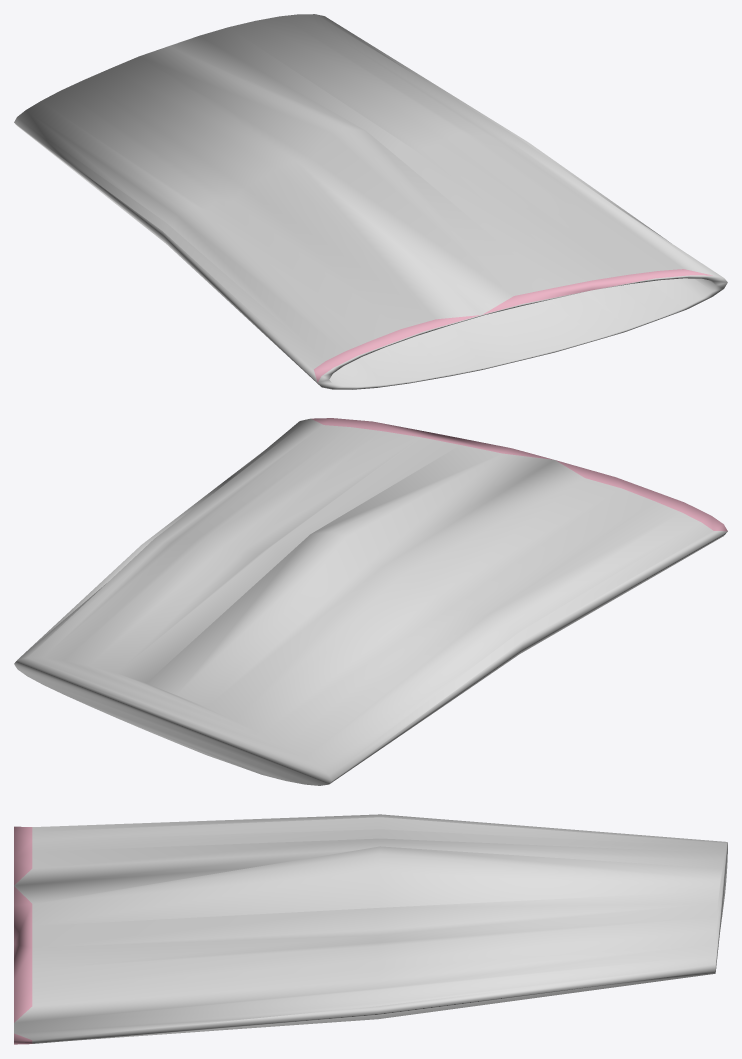
File: casa zgazena1.fbx
3 renders of one model, top to bottom at view 1: azimuth 30°, elevation 25°; view 2: azimuth 150°, elevation 25°; view 3: azimuth 270°, elevation 25°, orthographic. The views are drawn at different scales.
Visible parts, largest first — view 1: cup zguzvan1.001; view 2: cup zguzvan1.001; view 3: cup zguzvan1.001.
Boxes of the visible parts, <box> form: cup zguzvan1.001: <box>14,14,727,389</box>; cup zguzvan1.001: <box>14,418,727,785</box>; cup zguzvan1.001: <box>14,814,727,1044</box>.
Bounding box in the file's own units: 22.71 × 5.55 × 32.56.
